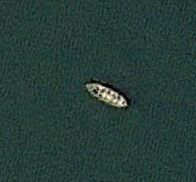boat: (85, 82, 129, 109)
